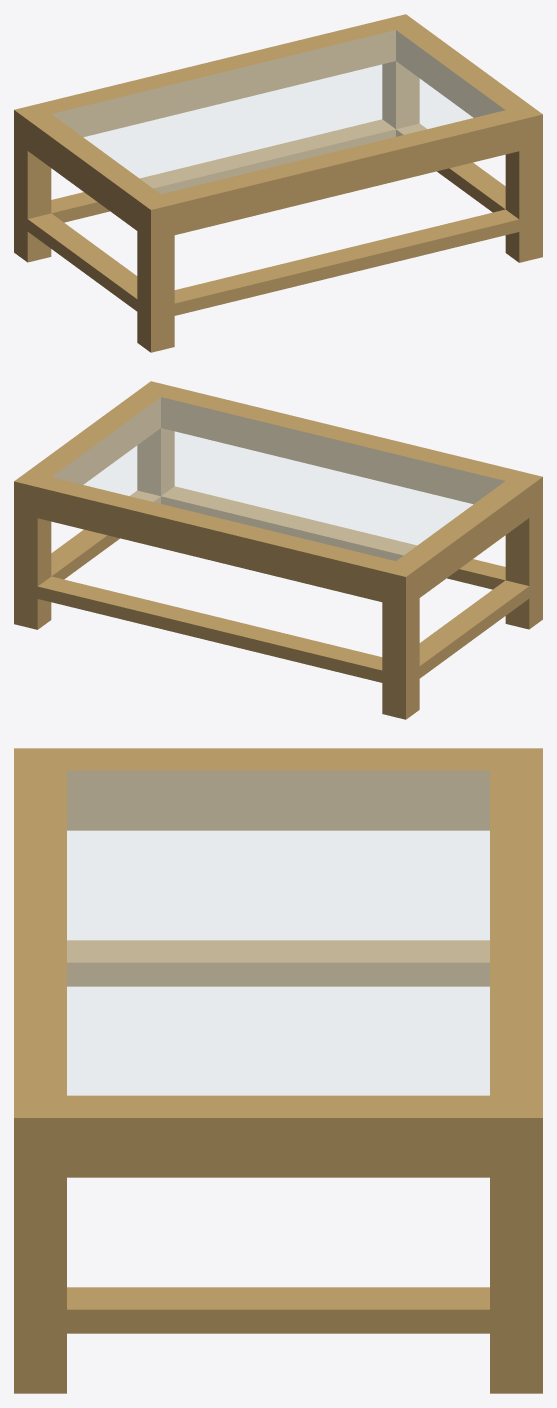
The model's file is furn_glasstable.glb.
3 views of the same model, one above another, from view 1: azimuth 30°, elevation 25°; view 2: azimuth 150°, elevation 25°; view 3: azimuth 270°, elevation 25° (orthographic). The views are drawn at different scales.
Visible parts, largest first — view 1: glasstable; view 2: glasstable; view 3: glasstable.
Boxes of the visible parts, box(x1,y1,x2,y2) form: glasstable: box(14, 14, 542, 352); glasstable: box(14, 381, 542, 719); glasstable: box(14, 748, 542, 1393).
Bounding box in the file's own units: 1.21 × 0.42 × 0.7305.
